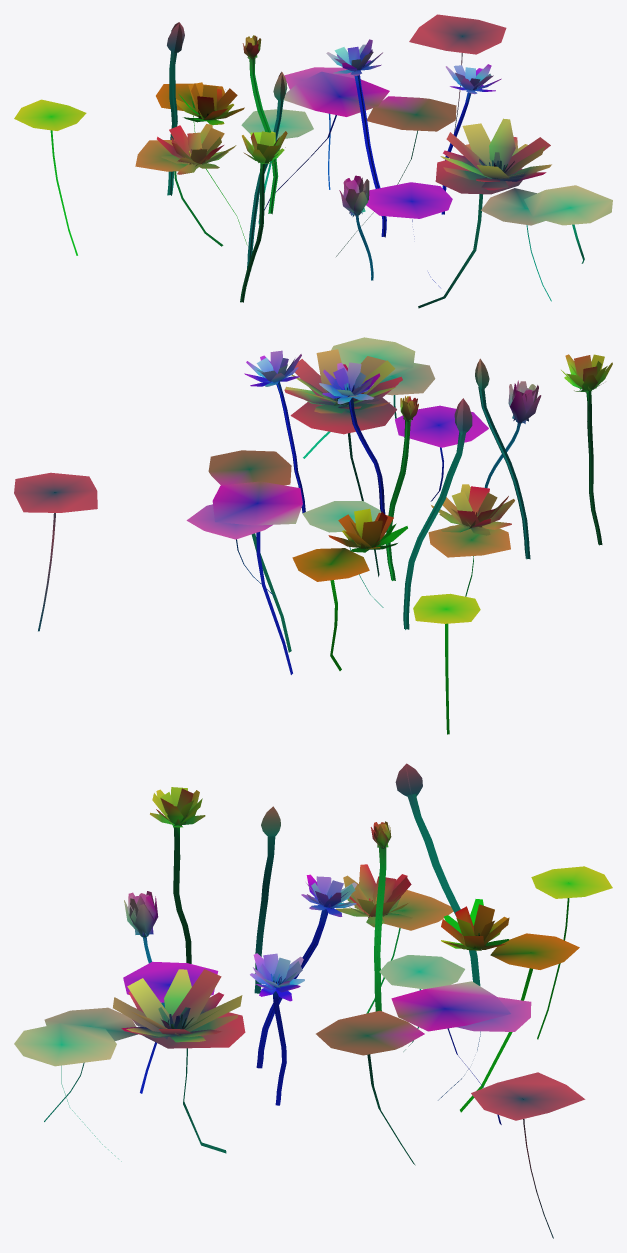
Rendered from Rembrandt_Water_Lily_uc2kajgia_High_uc2kajgia_VarF_LOD1.fbx.
The picture shows the model from 3 angles, top to bottom: view 1: azimuth 30°, elevation 25°; view 2: azimuth 150°, elevation 25°; view 3: azimuth 270°, elevation 25°; orthographic projection. The views are drawn at different scales.
Parts seen in each view (by area): view 1: _143e_VarF_LOD2; view 2: _143e_VarF_LOD2; view 3: _143e_VarF_LOD2.
Boxes of the visible parts, x1,y1,x2,y2 form: _143e_VarF_LOD2: (14,14,612,308); _143e_VarF_LOD2: (14,337,612,734); _143e_VarF_LOD2: (14,763,612,1238).
Bounding box in the file's own units: 149 × 85.48 × 148.
